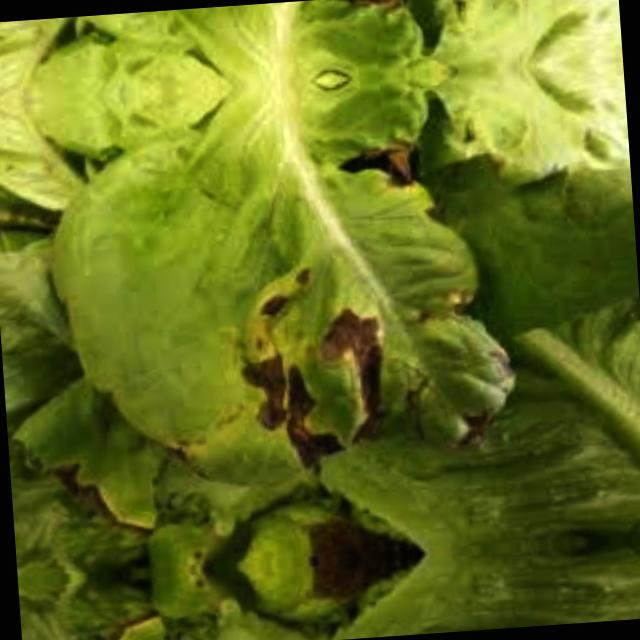Lettuce - Anthracnose: (43, 90, 524, 488), (35, 0, 495, 75)
